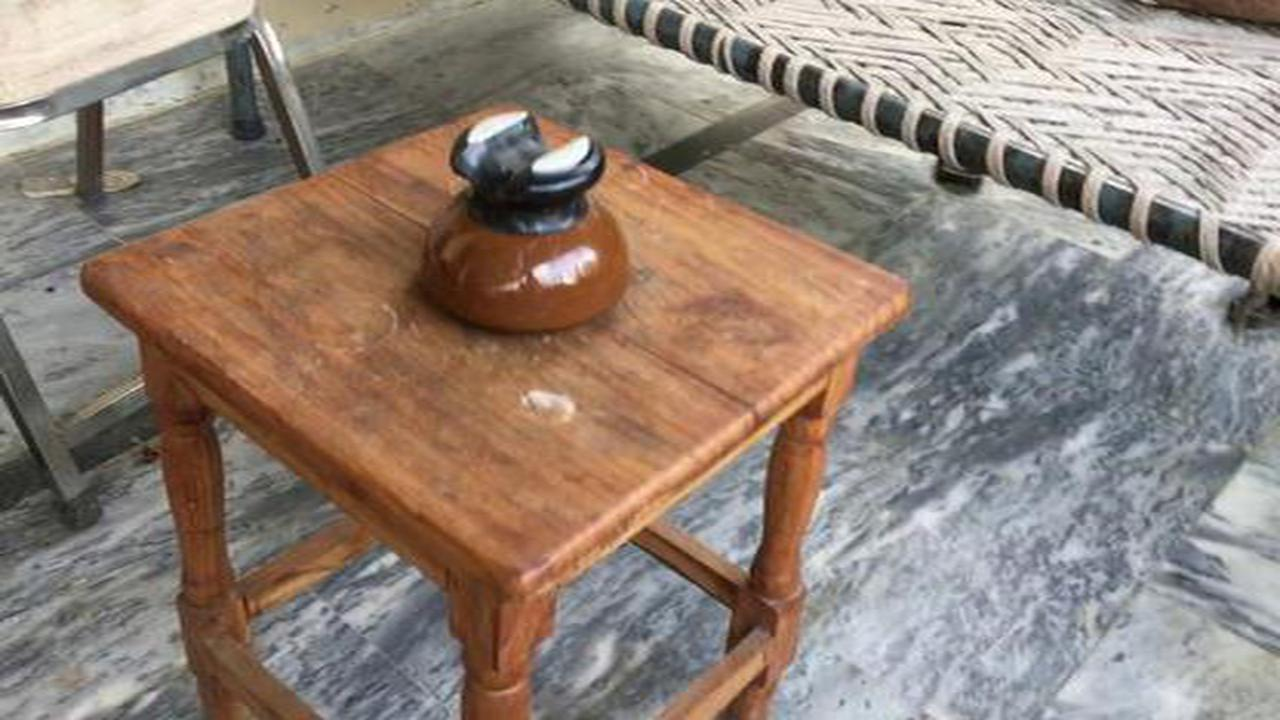insulator_pin: (401, 95, 641, 350)
